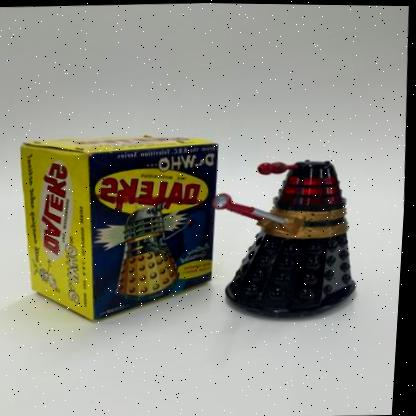dalek: (187, 148, 381, 331)
